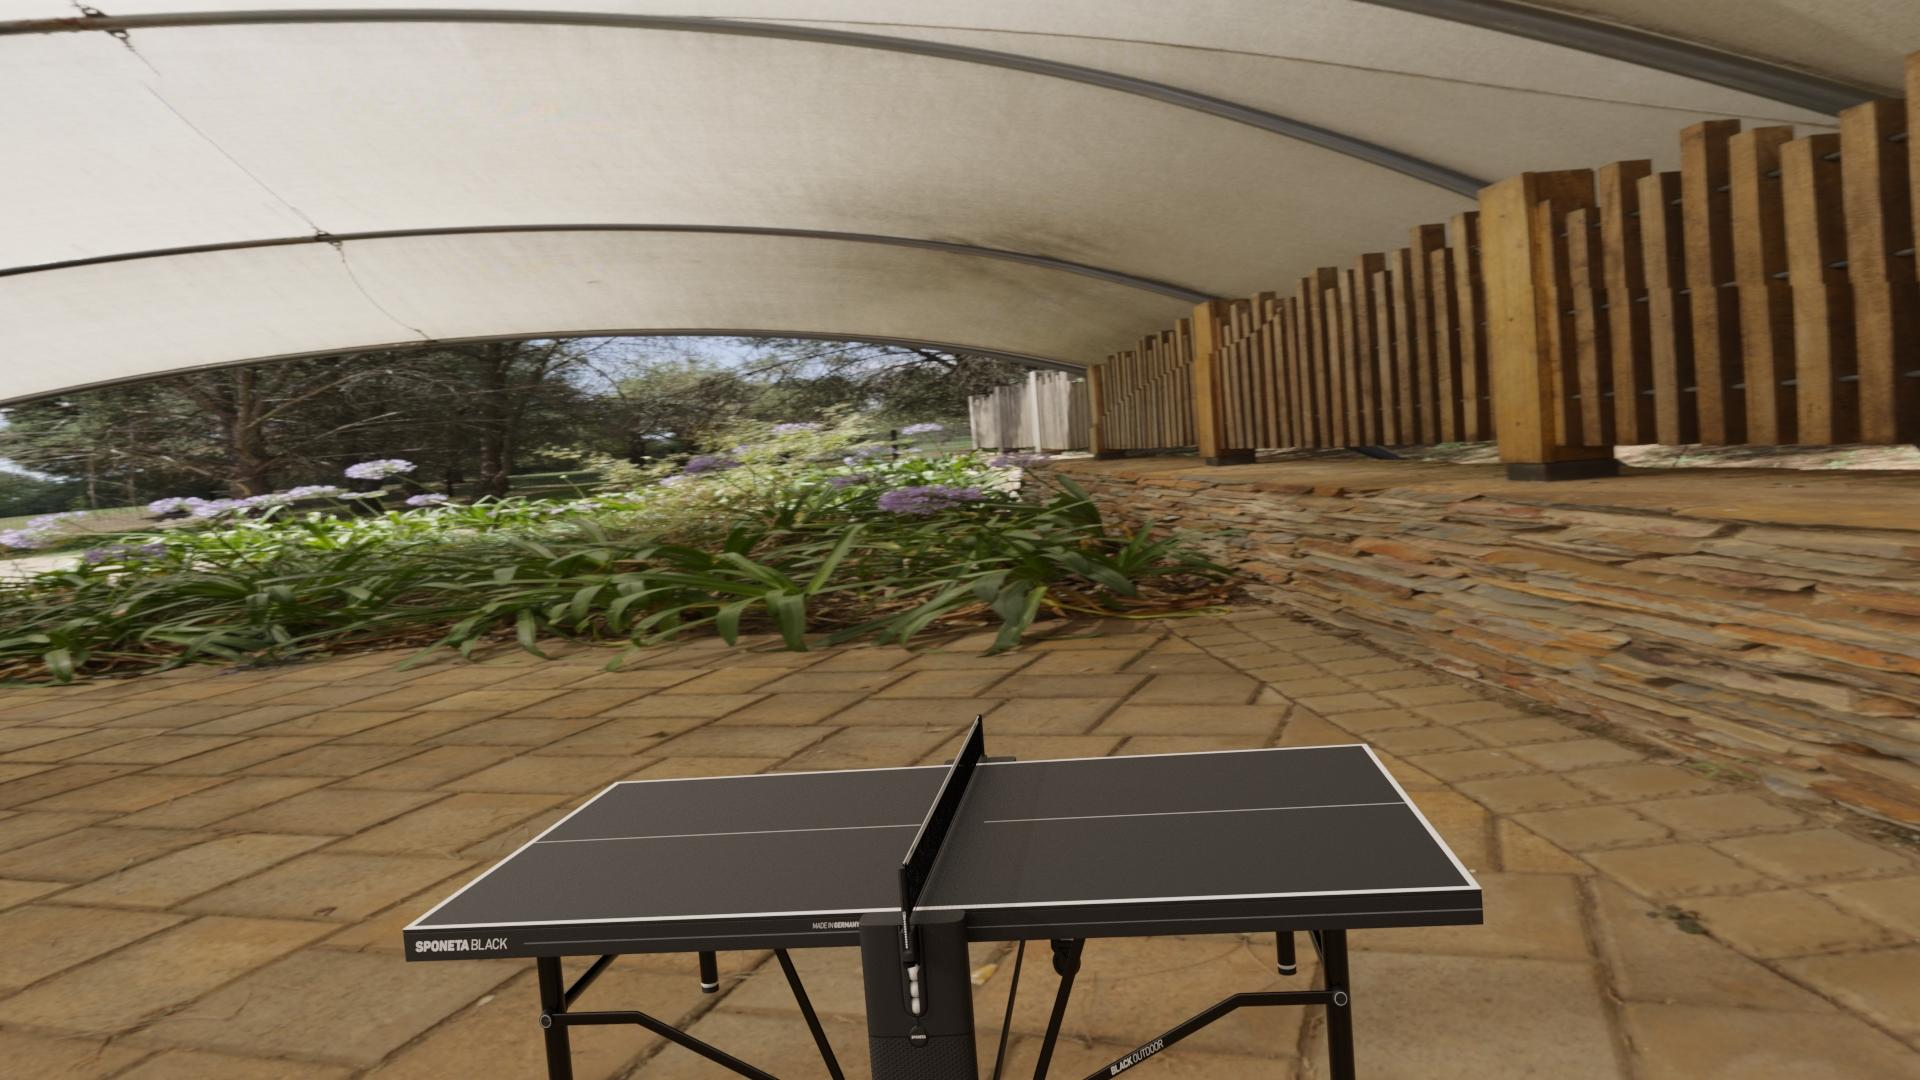table: (414, 745, 1470, 926)
